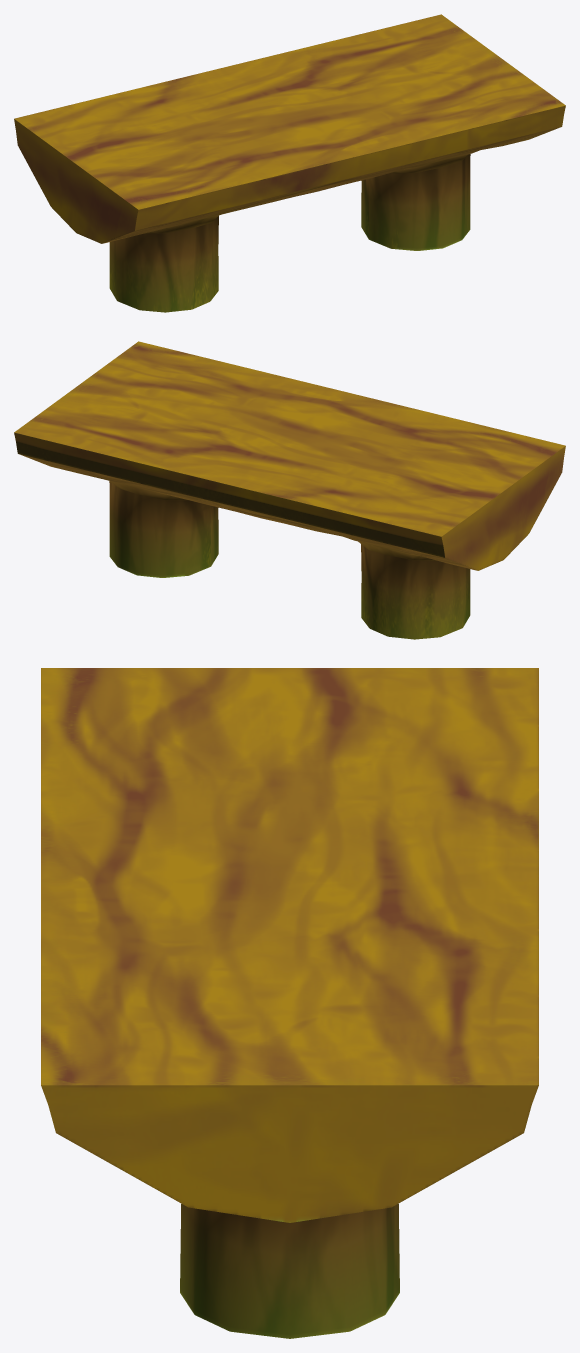
Rendered from bench.glb.
3 renders of one model, top to bottom at view 1: azimuth 30°, elevation 25°; view 2: azimuth 150°, elevation 25°; view 3: azimuth 270°, elevation 25°, orthographic. The views are drawn at different scales.
Parts seen in each view (by area): view 1: Retopo_Cylinder; view 2: Retopo_Cylinder; view 3: Retopo_Cylinder.
Part boxes in pixels (x1,y1,x2,y2): Retopo_Cylinder: (14,14,565,312); Retopo_Cylinder: (14,341,565,639); Retopo_Cylinder: (41,668,538,1338).
Bounding box in the file's own units: 15.59 × 5.12 × 7.87.
Materials: 1 (1 with a texture image).
